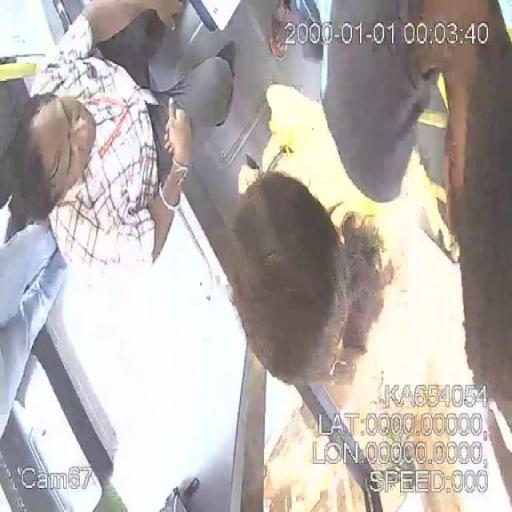persona: (311, 0, 511, 414), (230, 80, 390, 510), (4, 0, 219, 282)
